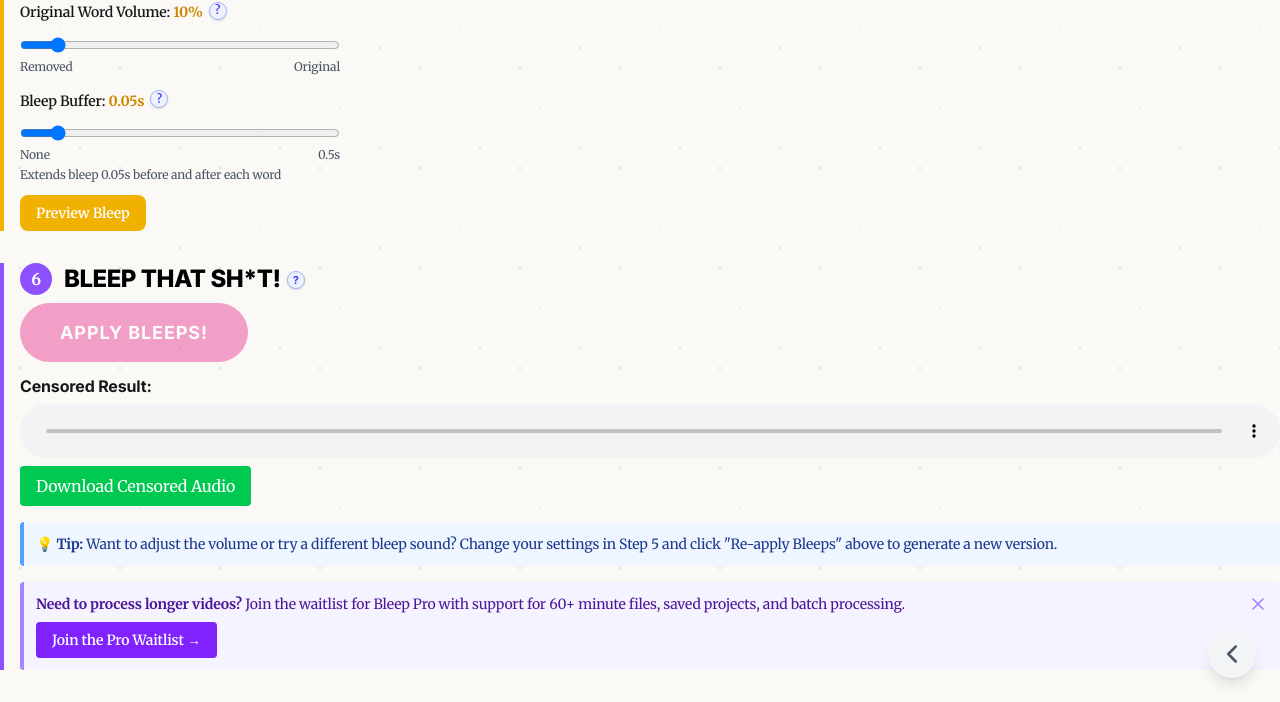
Test: BleepDownloadTab › Premium CTA › can be dismissed and persists to localStorage
This screenshot has width=1280, height=702.
(page scrolled)
Expected: the element with test id "premium-cta" is shown, [20, 582, 1279, 670]
Click dismiss button
What coordinates should you click on to do the following:
click the button named "Dismiss premium prompt"
I would click on:
 (1258, 604)
Its box is [1248, 594, 1268, 614].
(page scrolled)
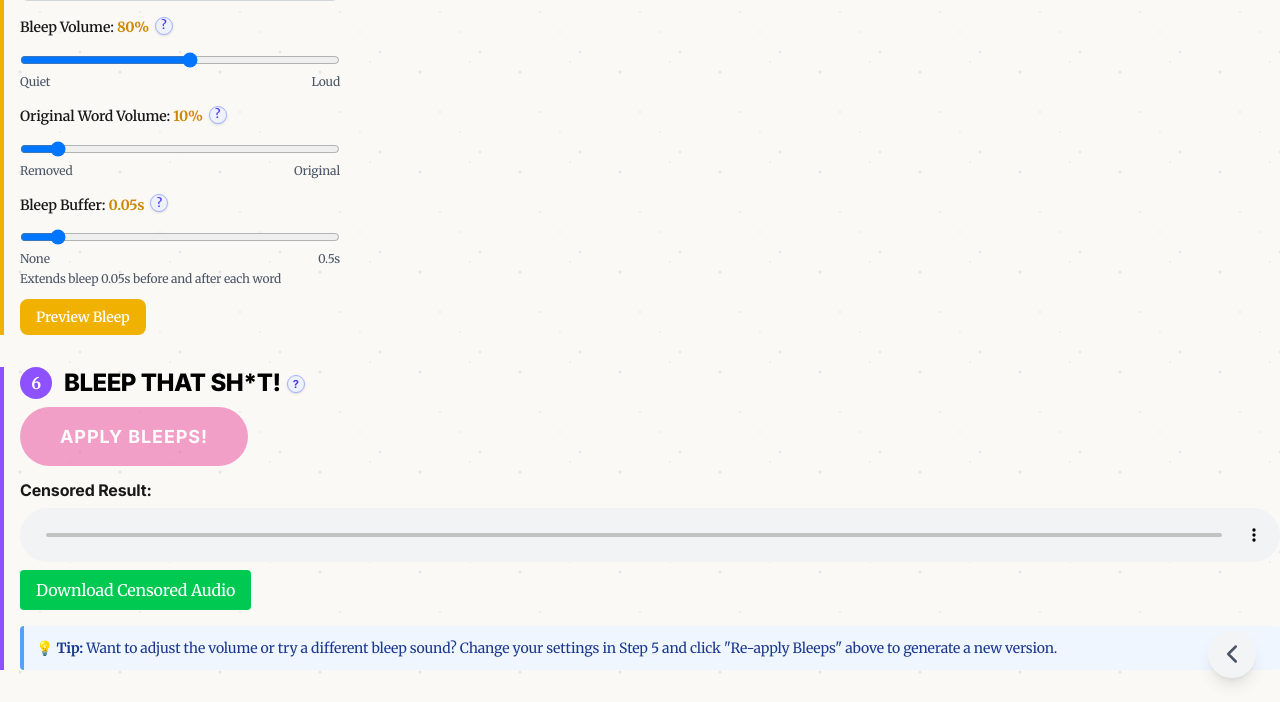
Expected: the element with test id "premium-cta" is gone
